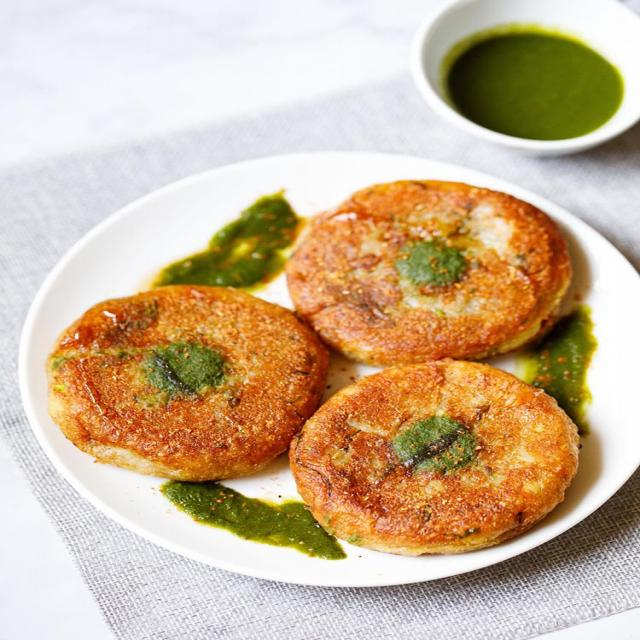Aloo Tikki: (54, 285, 336, 489), (291, 365, 581, 561), (291, 176, 573, 364)
